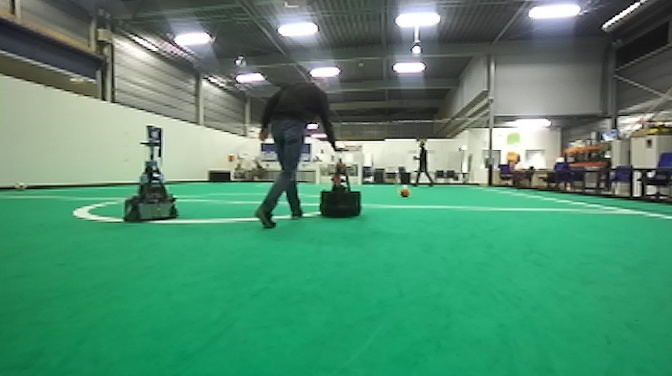ball: (12, 179, 31, 195), (399, 183, 414, 200)
goalpost: (313, 161, 322, 188), (355, 161, 363, 187)
human: (250, 72, 350, 232), (406, 140, 439, 191)
robot: (119, 135, 183, 227), (315, 146, 367, 224)
